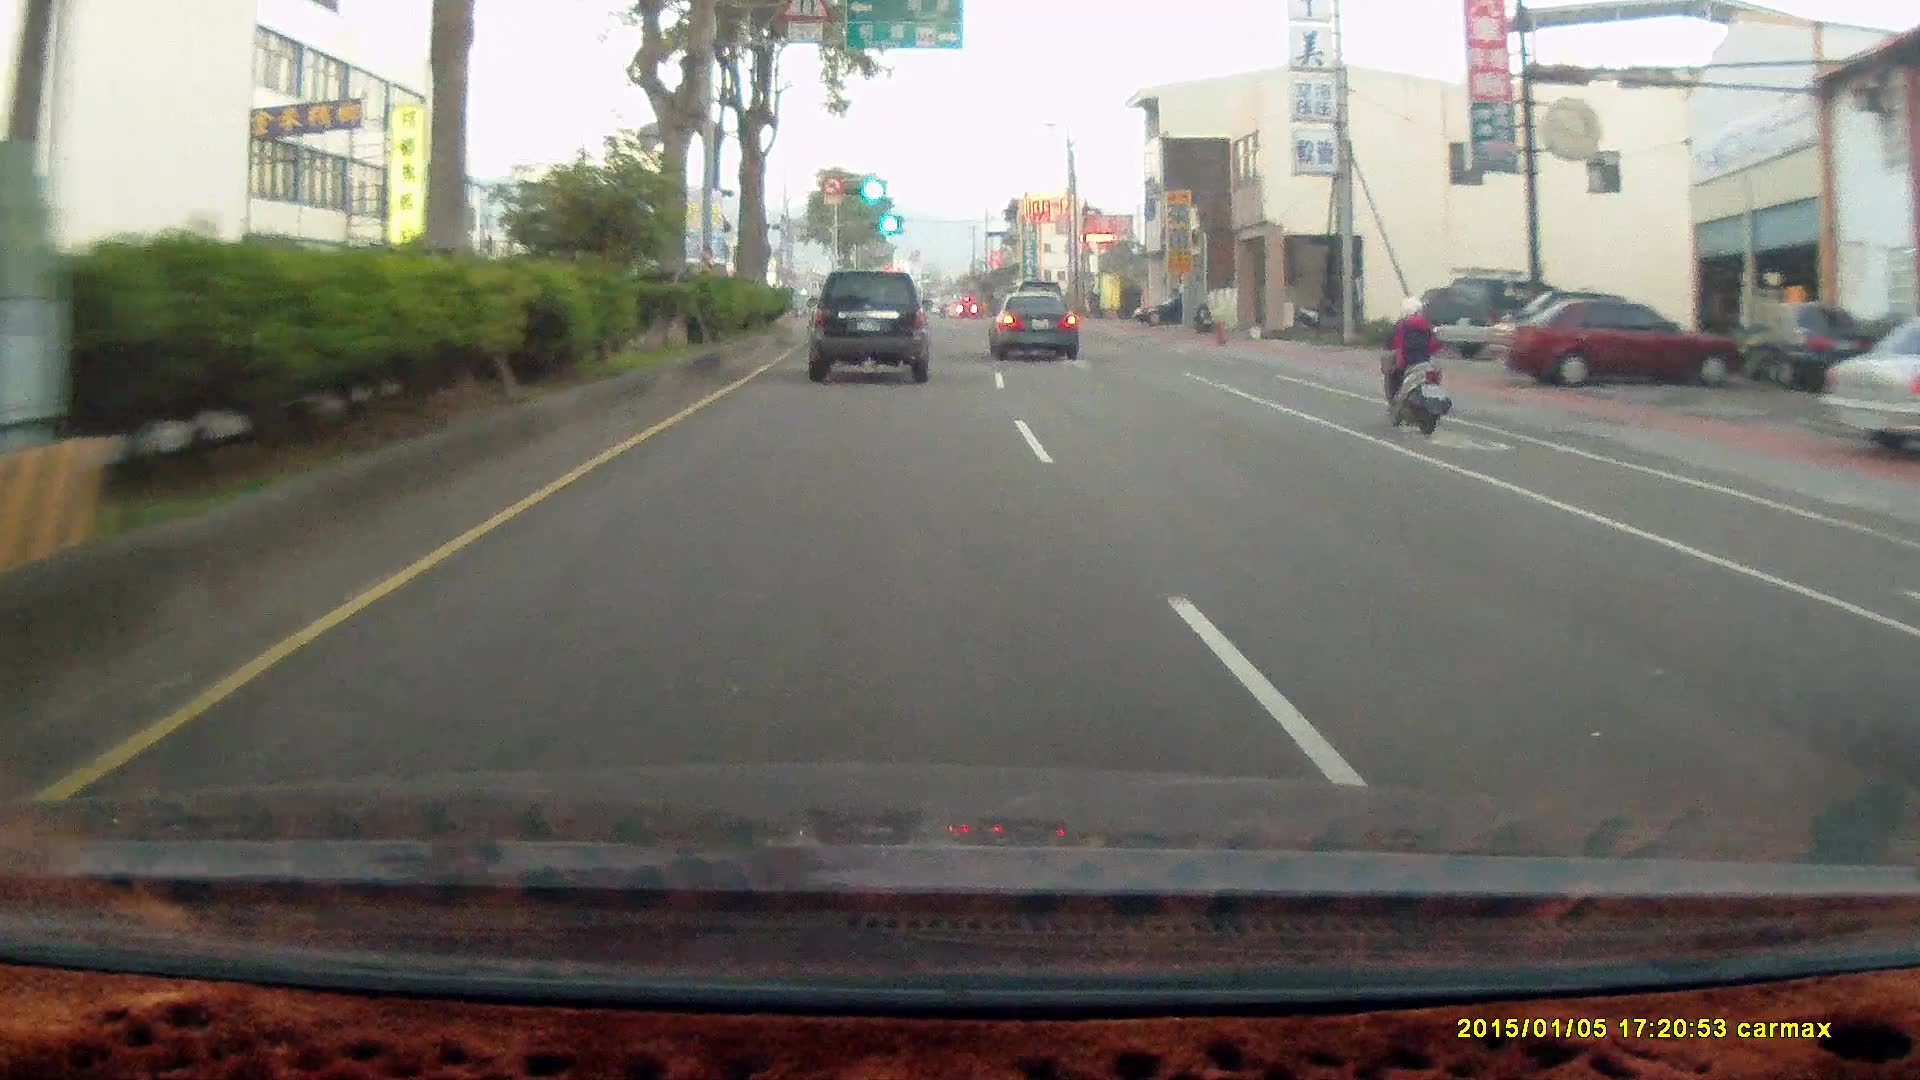rider: (1363, 285, 1465, 446), (1375, 291, 1450, 432)
vehicle: (1487, 295, 1739, 386), (1501, 297, 1728, 394), (1816, 310, 1920, 454), (810, 272, 933, 385), (809, 268, 932, 381), (1435, 273, 1577, 363), (1436, 275, 1580, 360), (1734, 302, 1876, 387), (988, 293, 1081, 363), (986, 289, 1078, 360), (1132, 292, 1212, 325)
